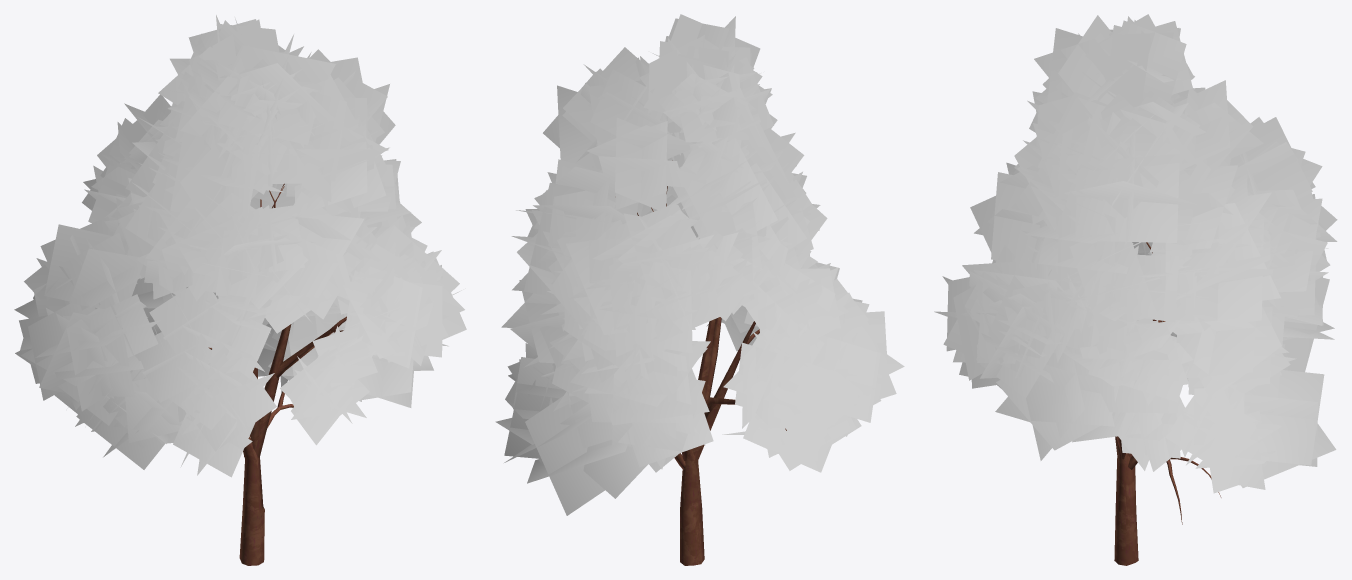
The model's file is S_Tree_A.fbx.
3 views of the same model, side by side, from view 1: azimuth 30°, elevation 25°; view 2: azimuth 150°, elevation 25°; view 3: azimuth 270°, elevation 25° (orthographic).
Visible parts, largest first — view 1: S_Tree_A; view 2: S_Tree_A; view 3: S_Tree_A.
Part boxes in pixels (x1,y1,x2,y2): S_Tree_A: (14, 15, 466, 565); S_Tree_A: (495, 14, 904, 565); S_Tree_A: (934, 14, 1337, 565).
Size of the model in its own units: 521 by 742 by 504.
